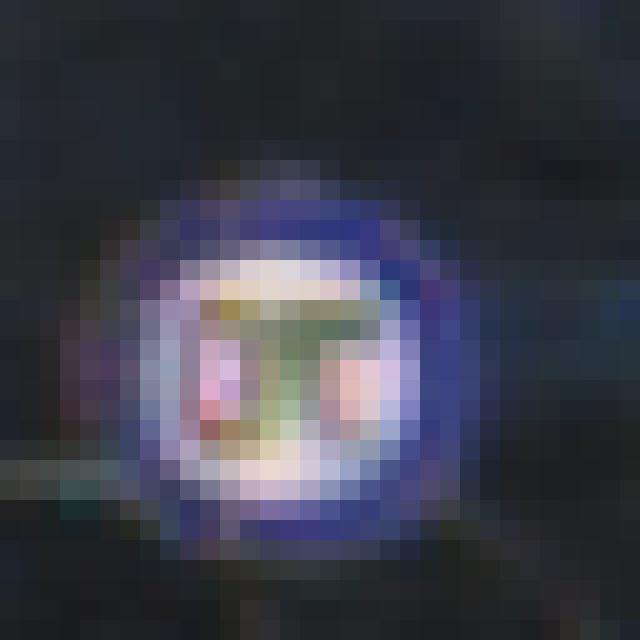SPEED LIMIT 70: (91, 176, 469, 562)
